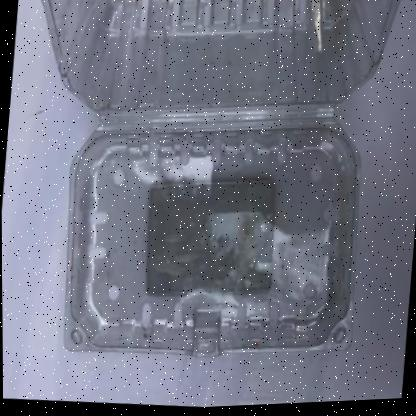Plastic: (41, 0, 401, 358)
